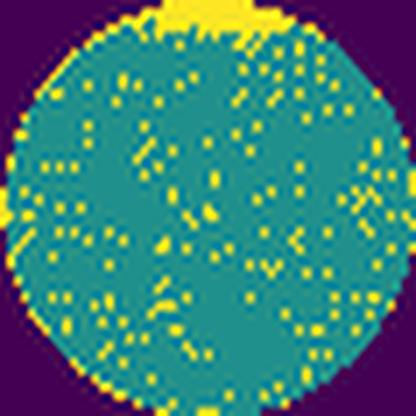Edge-Loc: (125, 0, 298, 45)
